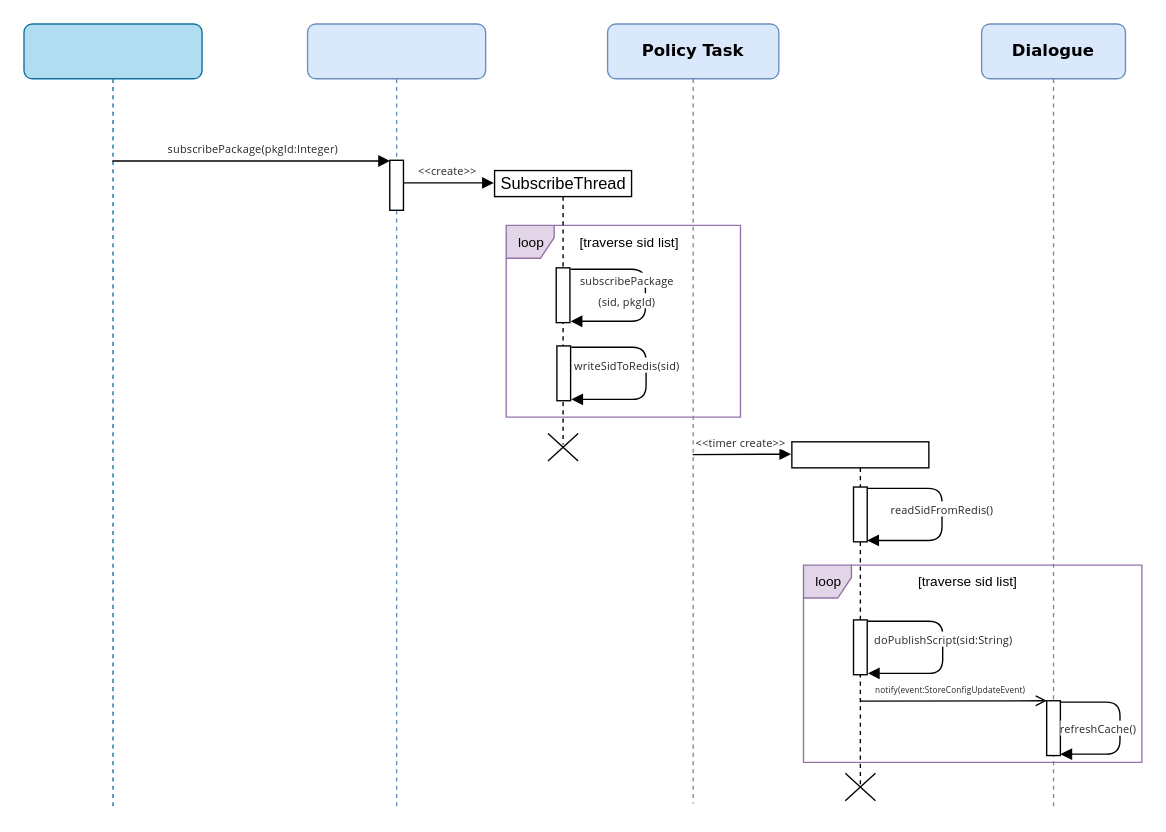
Image size: 1166x832. Some labels were removed from this diagram. The box of each missing label's shape, as (x1, y1, x2, y2) in pixels:
Policy Web: (306, 23, 486, 808)
PublishScriptJob: (790, 440, 929, 784)
Shadow: (23, 23, 202, 808)
